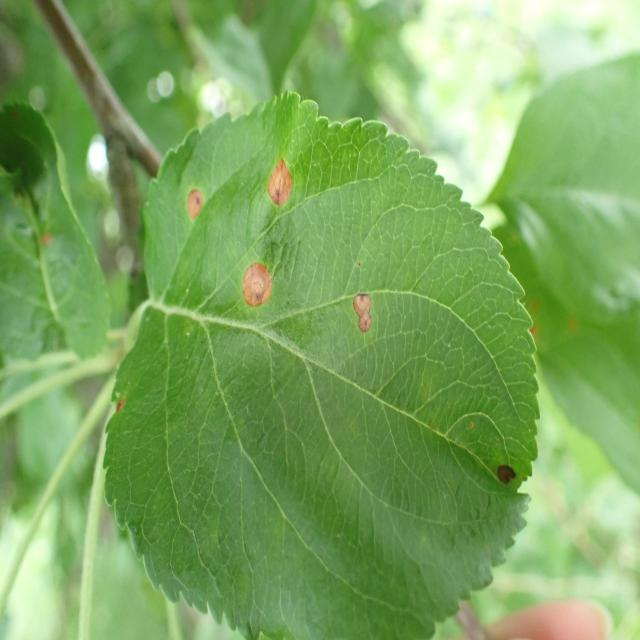Black Rot: (477, 417, 534, 541), (259, 146, 303, 224), (236, 247, 274, 325), (174, 170, 216, 240), (350, 276, 382, 360)
